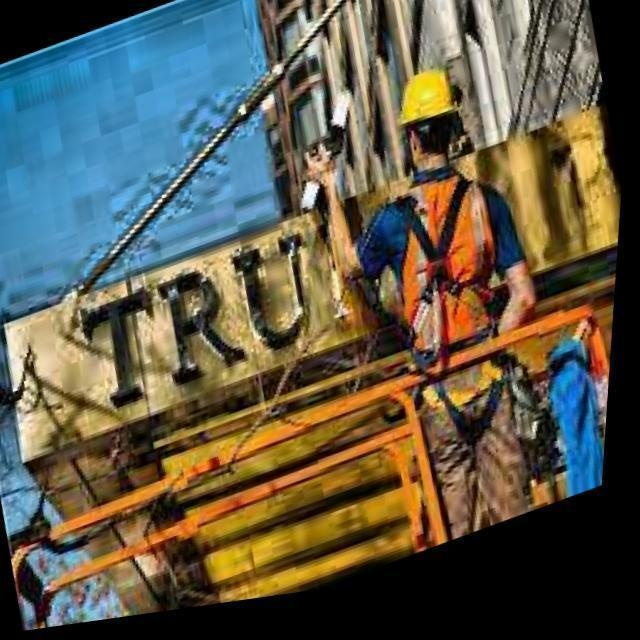Arnes_seguridad: (399, 176, 499, 381)
